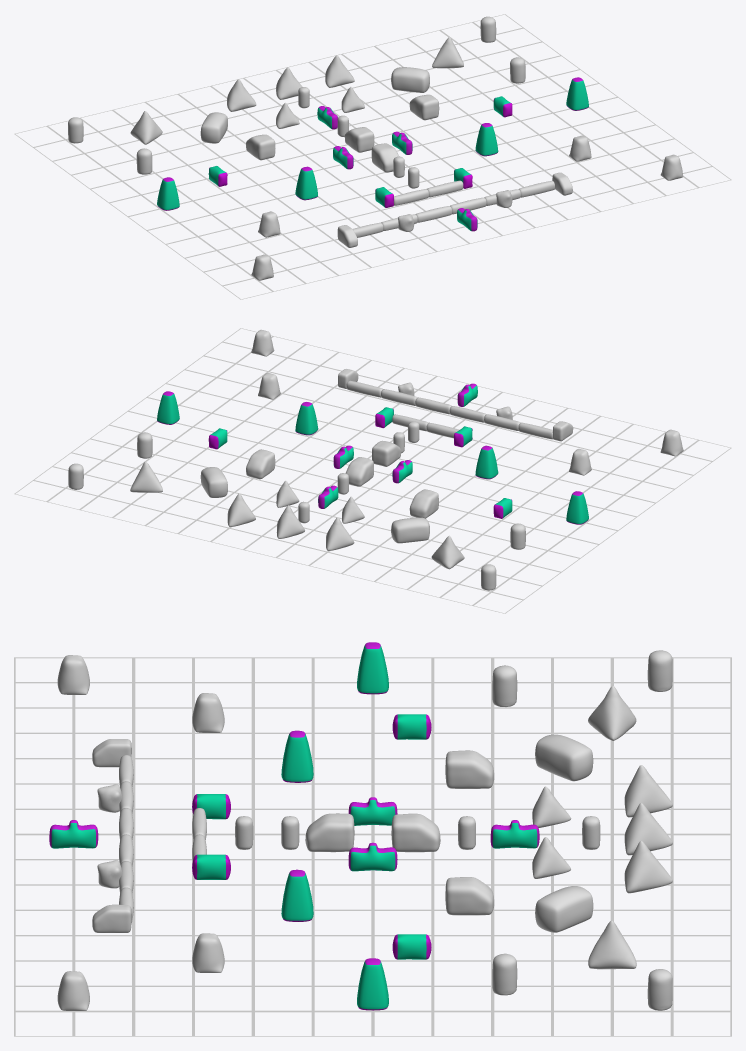
File: reference.fbx
3 renders of one model, top to bottom at view 1: azimuth 30°, elevation 25°; view 2: azimuth 150°, elevation 25°; view 3: azimuth 270°, elevation 25°, orthographic. The views are drawn at different scales.
Visible parts, largest first — view 1: Iris_S.004; view 2: Iris_S.004; view 3: Iris_S.004.
Part boxes in pixels (x1=…): Iris_S.004: x1=14, y1=14, x2=731, y2=299; Iris_S.004: x1=14, y1=328, x2=731, y2=613; Iris_S.004: x1=14, y1=642, x2=731, y2=1036.
Bounding box in the file's own units: 4572 × 254 × 3658.
